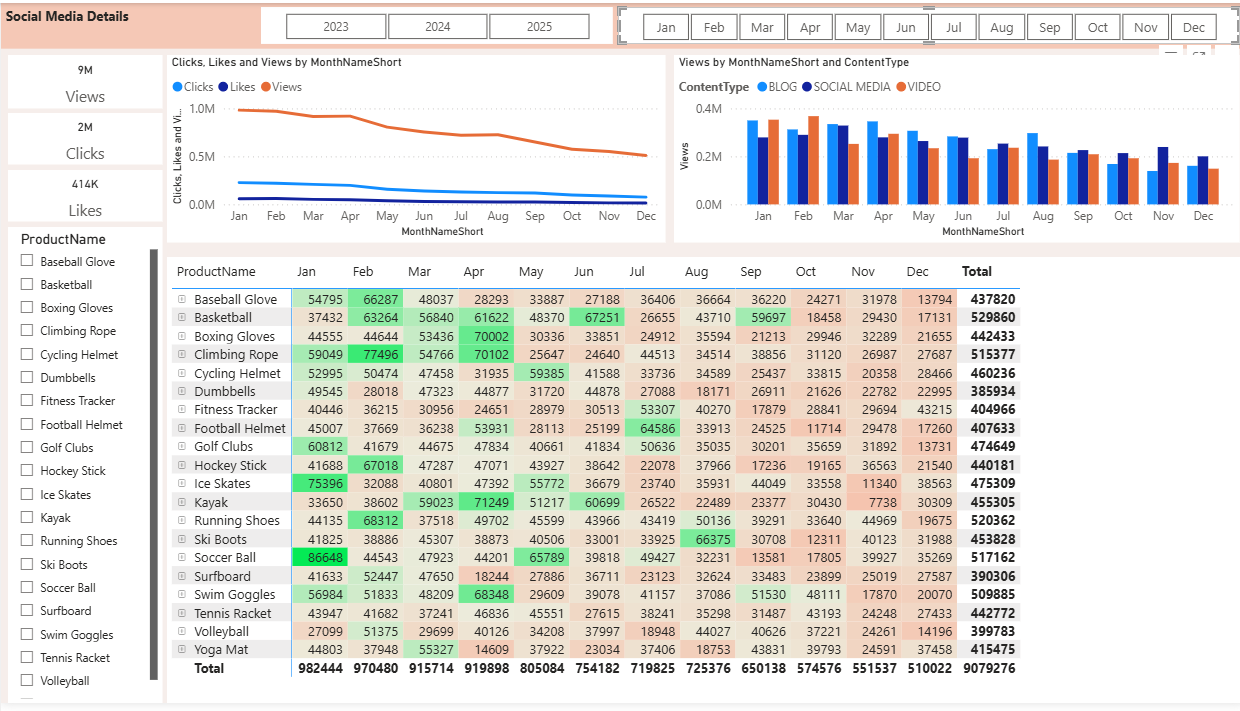

Layout of this report page (visuals, bound fields, positions):
{"tool":"powerbi","page":{"name":"Social Media Details","canvas":[1280,720],"ordinal":2},"visuals":[{"type":"textbox","box":[0,0,1279.8,46.8],"z":0},{"type":"slicer","fields":{"Values":["dim_products.ProductName"]},"box":[6.8,230.5,158.6,489.5],"z":1000},{"type":"card","fields":{"Values":["_Calculations.Clicks"]},"box":[6.8,113.4,158.6,53.3],"z":2000},{"type":"card","fields":{"Values":["_Calculations.Views"]},"box":[6.8,53.3,158.6,55.1],"z":3000},{"type":"card","fields":{"Values":["_Calculations.Likes"]},"box":[6.8,171.6,158.6,53.3],"z":4000},{"type":"slicer","fields":{"Values":["Calendar.Year"]},"box":[267.1,4.3,361.9,37.8],"z":5000},{"type":"slicer","fields":{"Values":["Calendar.MonthNameShort"]},"box":[634.5,4.3,640.1,37.8],"z":6000},{"type":"lineChart","fields":{"Category":["Calendar.MonthNameShort"],"Y":["_Calculations.Clicks","_Calculations.Likes","_Calculations.Views"]},"box":[170.4,53.3,513,192.7],"z":7000},{"type":"clusteredColumnChart","fields":{"Category":["Calendar.MonthNameShort"],"Y":["_Calculations.Views"],"Series":["fact_engagement_data.ContentType"]},"box":[692.1,53.3,582.4,192.7],"z":8000},{"type":"pivotTable","fields":{"Rows":["dim_products.ProductName","fact_engagement_data.ContentType"],"Columns":["Calendar.MonthNameShort"],"Values":["_Calculations.Views"]},"box":[170.4,260.9,1109.1,459.1],"z":9000}]}

Visuals, with their boxes in screenshot pixels (x1, y1, x2, y2), scaled from the page's 1280x720 canvas onto the 1240x711 screenshot:
textbox: [0, 0, 1239, 46]
slicer - dim_products.ProductName: [7, 228, 160, 710]
card - _Calculations.Clicks: [7, 112, 160, 165]
card - _Calculations.Views: [7, 53, 160, 107]
card - _Calculations.Likes: [7, 169, 160, 222]
slicer - Calendar.Year: [259, 4, 609, 42]
slicer - Calendar.MonthNameShort: [615, 4, 1235, 42]
lineChart - Calendar.MonthNameShort x _Calculations.Clicks: [165, 53, 662, 243]
clusteredColumnChart - Calendar.MonthNameShort x _Calculations.Views: [670, 53, 1235, 243]
pivotTable - dim_products.ProductName x fact_engagement_data.ContentType: [165, 258, 1239, 710]
